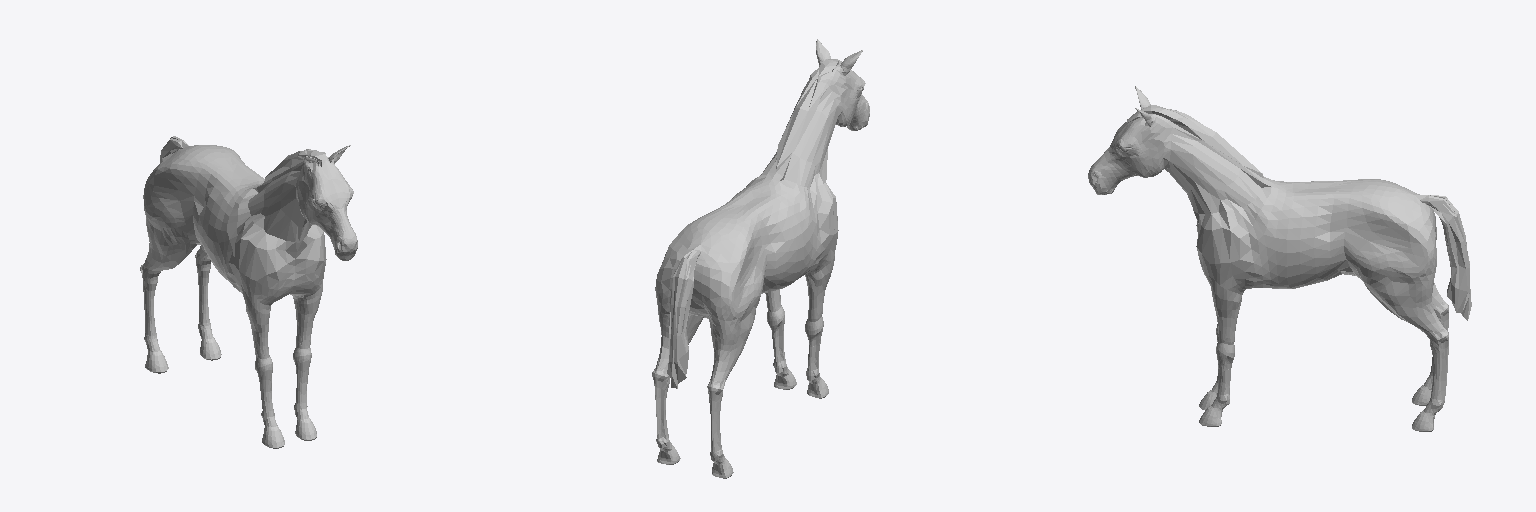
The model's file is HRS_ARBN.OBJ.
The picture shows the model from 3 angles: view 1: azimuth 30°, elevation 25°; view 2: azimuth 150°, elevation 25°; view 3: azimuth 270°, elevation 25°; orthographic projection.
Parts seen in each view (by area): view 1: ahrs_body; view 2: ahrs_body; view 3: ahrs_body.
Part boxes in pixels (bbox=[...]): ahrs_body: bbox=[140, 136, 357, 448]; ahrs_body: bbox=[652, 39, 869, 478]; ahrs_body: bbox=[1088, 86, 1471, 431].
Size of the model in its own units: 0.6004 by 2.17 by 2.37.